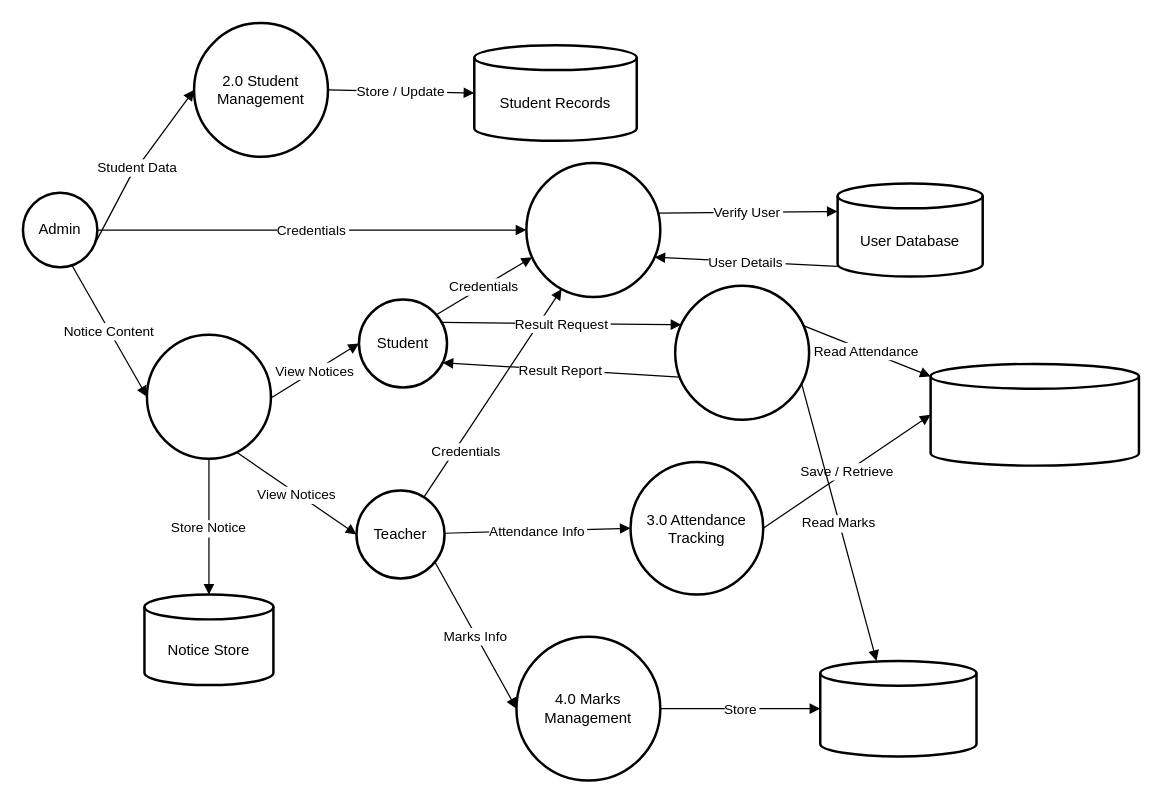
The diagram is 1161 pixels wide and 802 high, and some of its shapes have lost their labels. The shapes that lost their labels are listed below. From the top down, each one's box as (x1, y1, x2, y2) in pixels, then its label:
(525, 161, 661, 298): 1.0 Authentication
(673, 284, 810, 420): 5.0 Report Generation
(145, 333, 272, 459): 6.0 Notice Management
(929, 362, 1140, 466): Attendance Database
(818, 659, 977, 757): Marks Database
